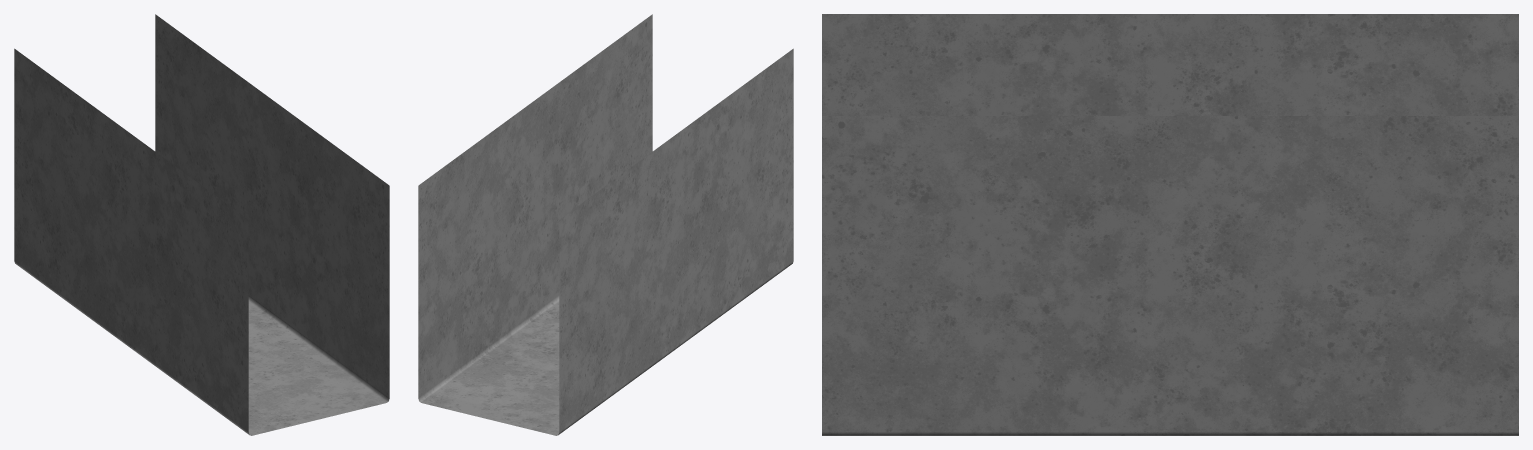
Rendered from SM_Ceiling_15.fbx.
3 renders of one model, left to right at view 1: azimuth 30°, elevation 25°; view 2: azimuth 150°, elevation 25°; view 3: azimuth 270°, elevation 25°, orthographic. The views are drawn at different scales.
Parts seen in each view (by area): view 1: SM_Ceiling_15; view 2: SM_Ceiling_15; view 3: SM_Ceiling_15.
Boxes of the visible parts, x1,y1,x2,y2 form: SM_Ceiling_15: [14, 14, 389, 435]; SM_Ceiling_15: [418, 14, 793, 435]; SM_Ceiling_15: [822, 14, 1518, 435].
Bounding box in the file's own units: 104 × 153 × 300.
